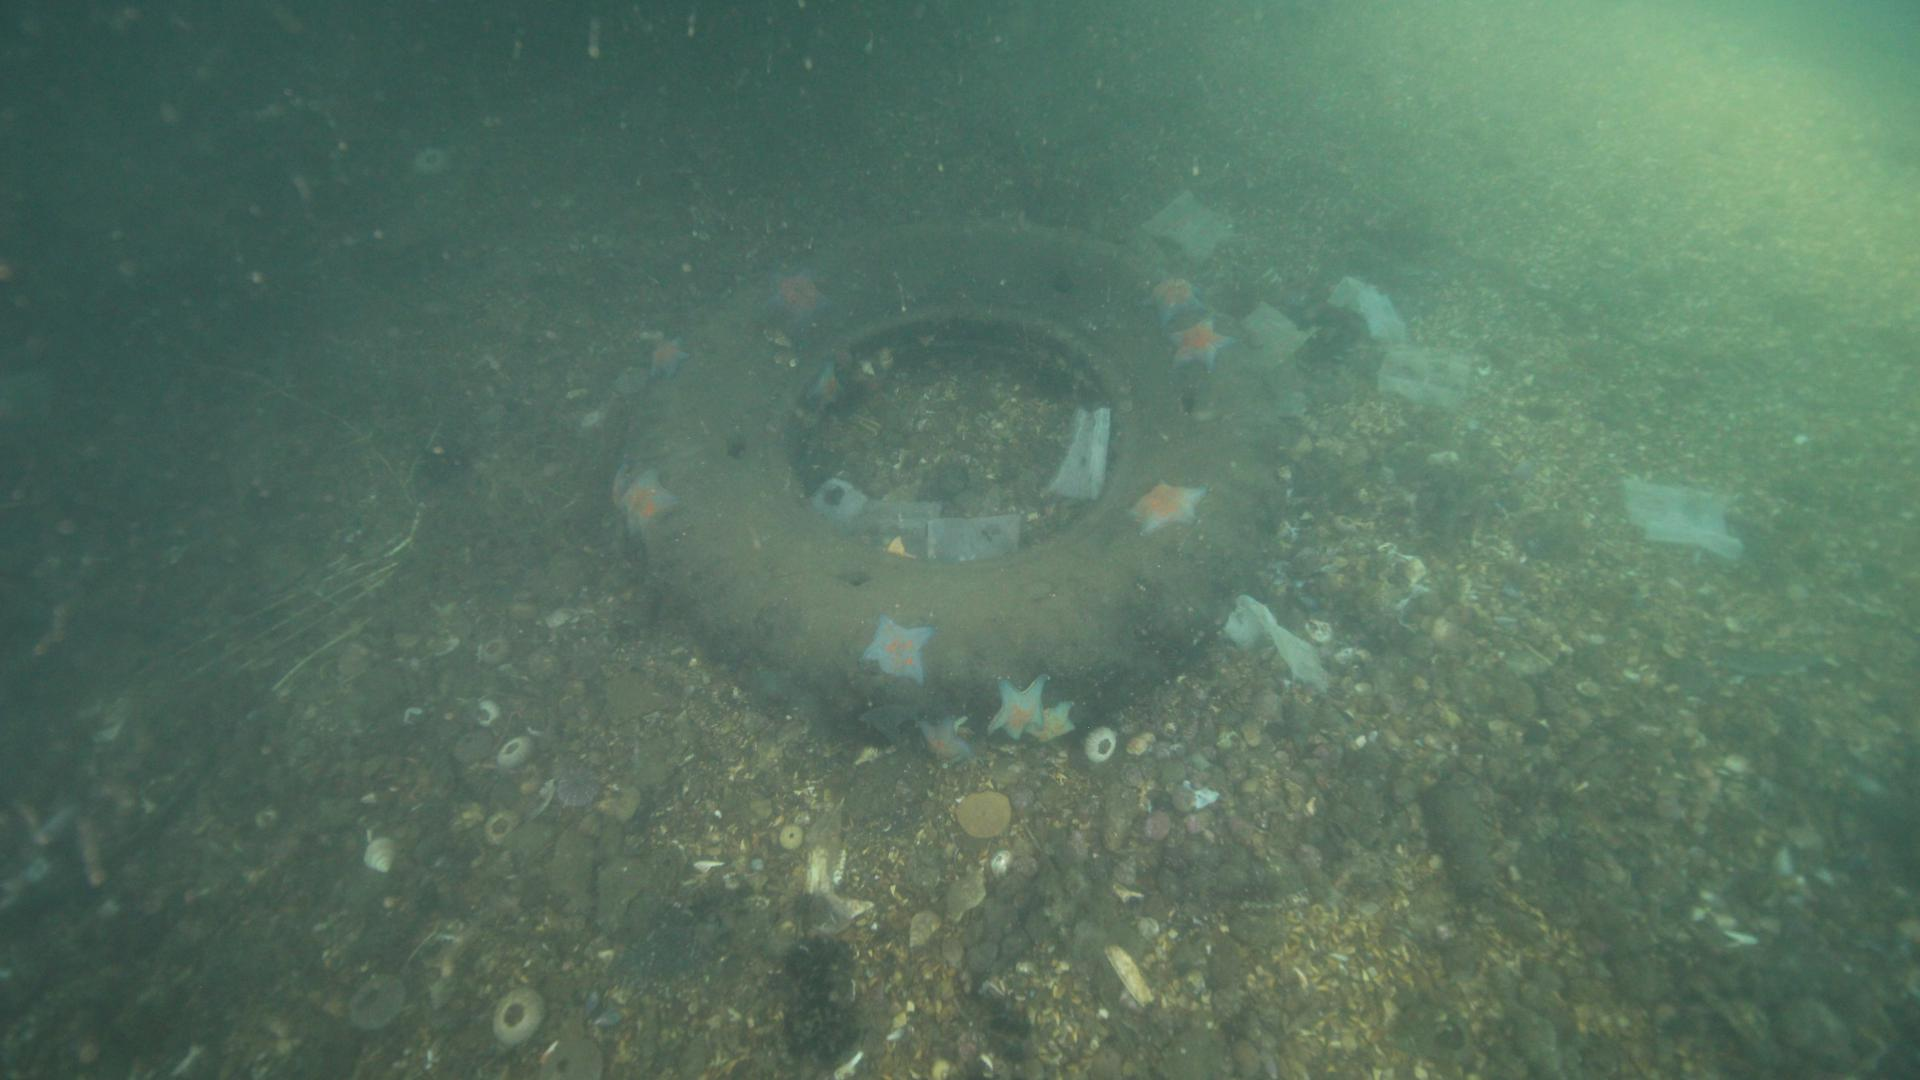tire: (622, 220, 1276, 735)
